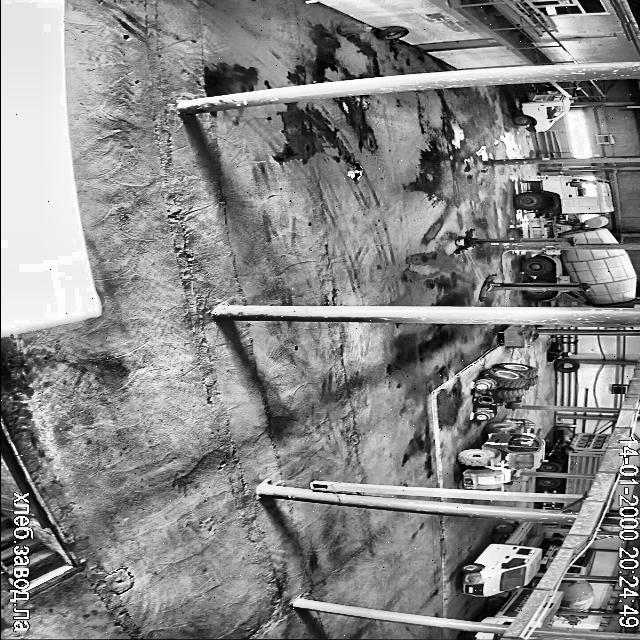class6: (458, 418, 544, 489), (473, 362, 537, 420)
class7: (516, 176, 616, 244), (523, 247, 636, 305), (460, 521, 540, 596), (540, 433, 611, 473), (515, 93, 571, 132), (483, 588, 532, 624), (557, 580, 594, 610), (537, 476, 592, 494), (538, 592, 562, 628), (542, 535, 563, 570), (567, 548, 595, 574), (542, 500, 580, 510), (464, 632, 500, 640), (480, 616, 510, 624), (564, 616, 587, 622)
truck: (479, 274, 588, 300), (455, 229, 572, 253)
